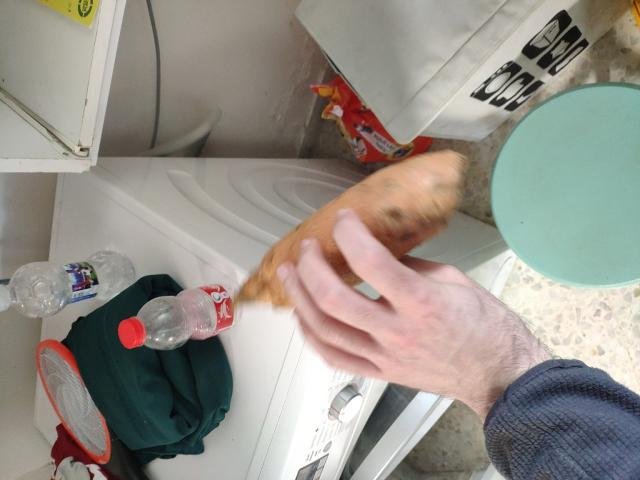sweet_potato: (242, 152, 431, 336)
